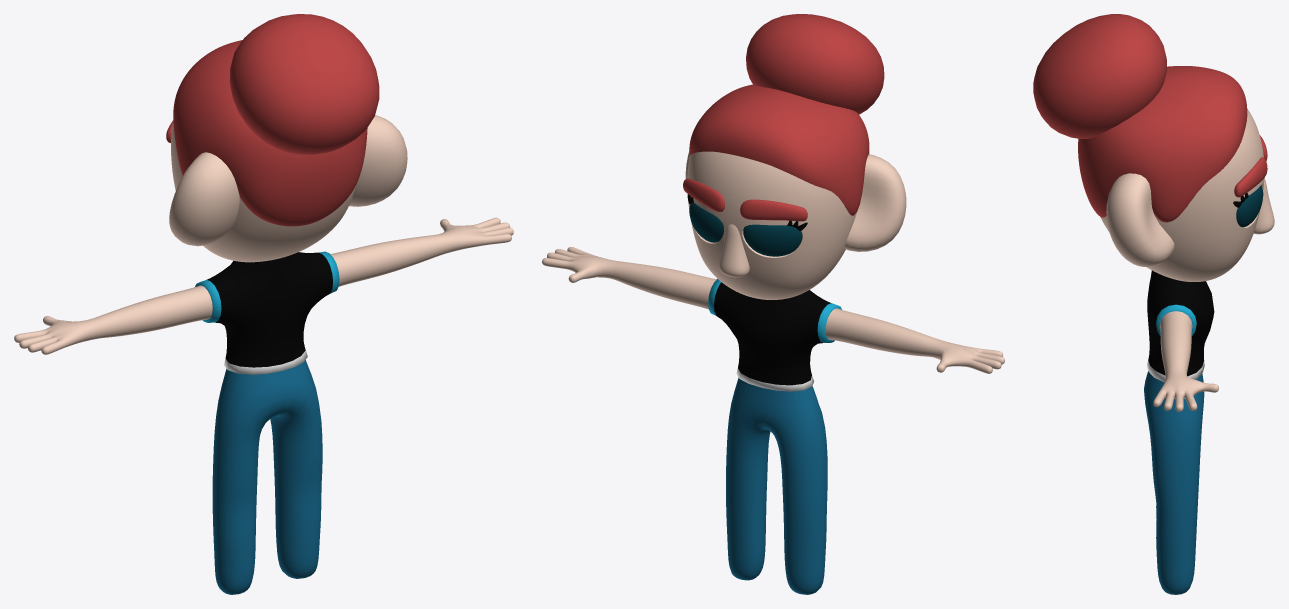
The model's file is FemaleNPC2.fbx.
3 renders of one model, left to right at view 1: azimuth 30°, elevation 25°; view 2: azimuth 150°, elevation 25°; view 3: azimuth 270°, elevation 25°, orthographic. The views are drawn at different scales.
Visible parts, largest first — view 1: Body.003, hairextra, Hairbase.001, Head.003, shirt; view 2: Body.003, Head.003, Hairbase.001, hairextra, shirt, Brows.002; view 3: Hairbase.001, Head.003, hairextra, Body.003, shirt, Brows.002.
Boxes of the visible parts, box(x1,y1,x2,y2) form: Body.003: box(14, 217, 513, 594); hairextra: box(230, 14, 379, 154); Hairbase.001: box(173, 40, 367, 226); Head.003: box(169, 115, 407, 262); shirt: box(195, 251, 339, 374); Body.003: box(542, 247, 1004, 594); Head.003: box(685, 151, 906, 299); Hairbase.001: box(689, 84, 869, 215); hairextra: box(746, 14, 884, 114); shirt: box(708, 279, 841, 391); Brows.002: box(683, 178, 807, 221); Hairbase.001: box(1078, 66, 1247, 222); Head.003: box(1100, 108, 1274, 281); hairextra: box(1033, 14, 1166, 138); Body.003: box(1144, 311, 1218, 594); shirt: box(1147, 270, 1214, 382); Brows.002: box(1234, 135, 1267, 197).
Size of the model in its own units: 172 by 197 by 77.76.
